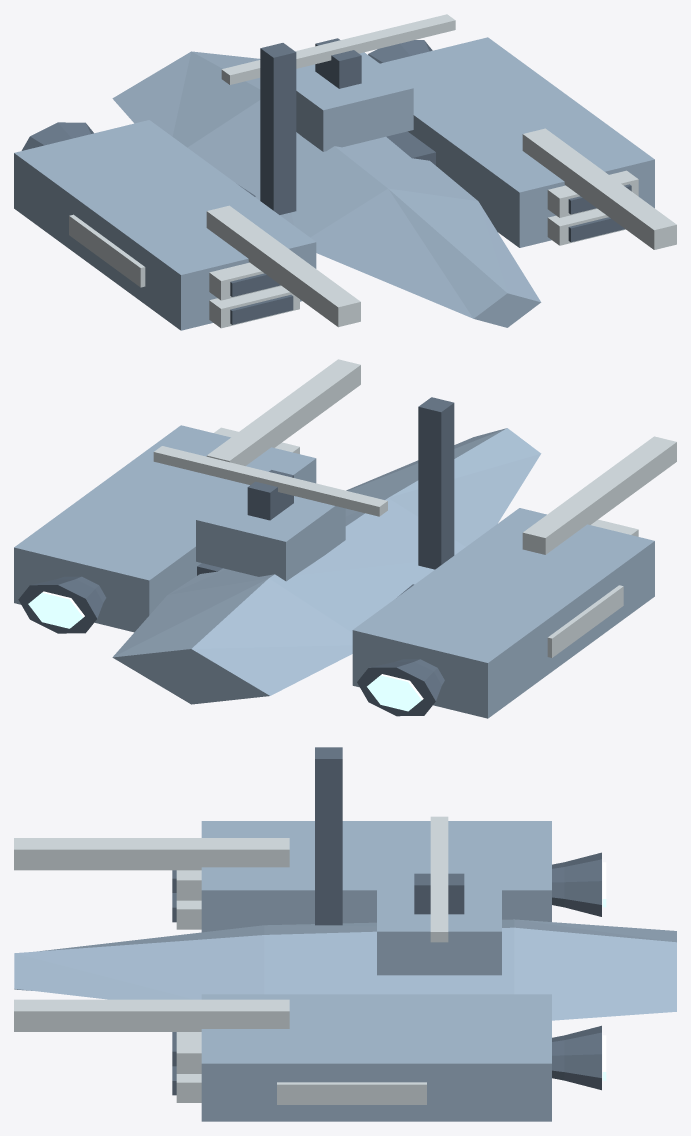
3 renders of one model, top to bottom at view 1: azimuth 30°, elevation 25°; view 2: azimuth 150°, elevation 25°; view 3: azimuth 270°, elevation 25°, orthographic. The views are drawn at different scales.
Size of the model in its own units: 10.18 by 4.48 by 11.55.
